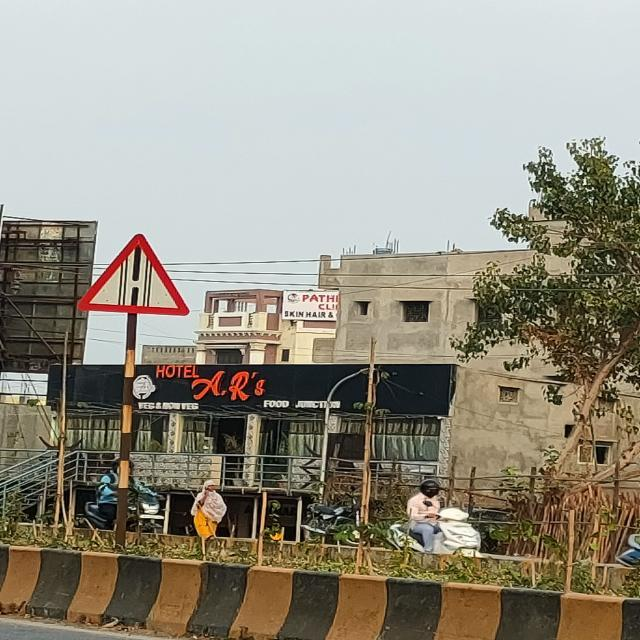gap in median: (75, 233, 197, 322)
